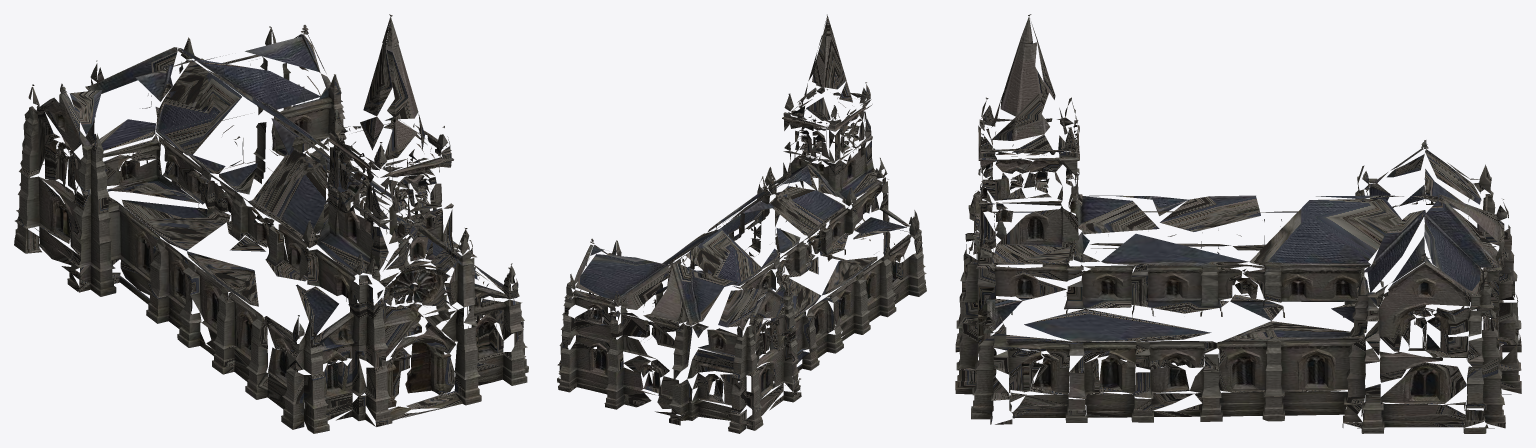
The model's file is bld_cathedral_a_LOD1.glb.
3 renders of one model, left to right at view 1: azimuth 30°, elevation 25°; view 2: azimuth 150°, elevation 25°; view 3: azimuth 270°, elevation 25°, orthographic. The views are drawn at different scales.
Parts seen in each view (by area): view 1: geometry_0; view 2: geometry_0; view 3: geometry_0.
Boxes of the visible parts, bbox=[...] form: geometry_0: bbox=[14, 14, 528, 433]; geometry_0: bbox=[557, 14, 926, 433]; geometry_0: bbox=[955, 14, 1521, 433].
Size of the model in its own units: 14 by 18 by 25.98.
1 material, 1 textured.
